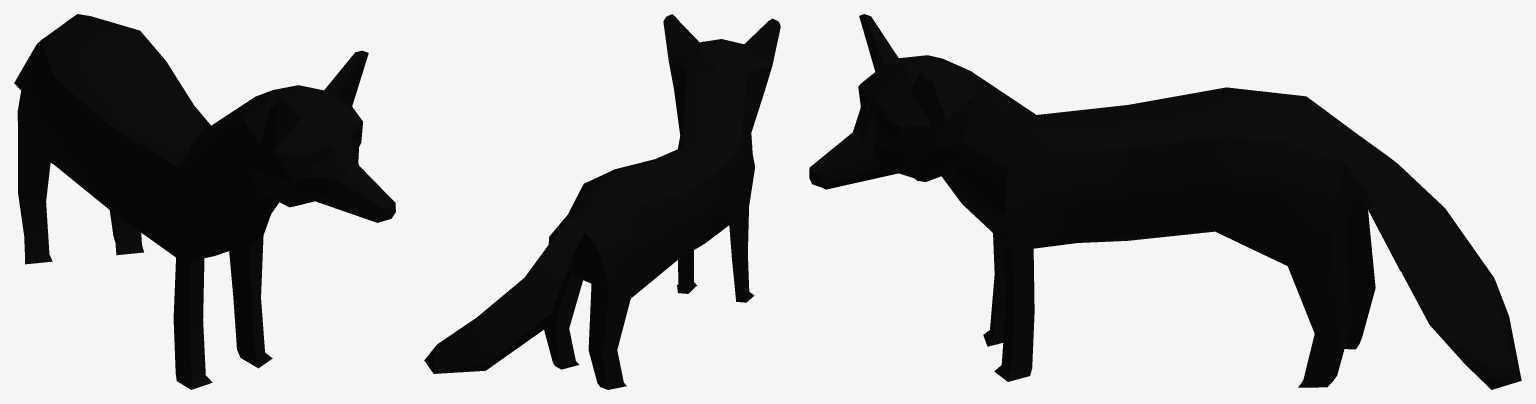
Rendered from fox_mesh.fbx.
3 renders of one model, left to right at view 1: azimuth 30°, elevation 25°; view 2: azimuth 150°, elevation 25°; view 3: azimuth 270°, elevation 25°, orthographic. The views are drawn at different scales.
Parts seen in each view (by area): view 1: fox; view 2: fox; view 3: fox.
Boxes of the visible parts, <box> form: fox: <box>14,14,395,389</box>; fox: <box>424,14,780,389</box>; fox: <box>809,14,1521,389</box>.
Bounding box in the file's own units: 0.3643 × 0.5022 × 0.9605.
